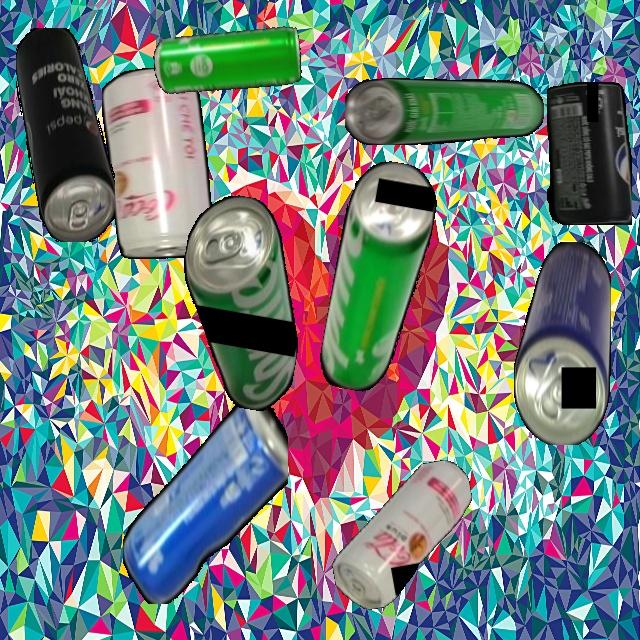debris: (161, 189, 322, 415), (122, 400, 288, 604), (316, 156, 442, 398), (318, 457, 488, 614), (102, 67, 214, 259), (15, 27, 115, 242), (513, 241, 611, 445), (150, 16, 306, 106), (345, 77, 544, 145), (546, 82, 632, 225)
